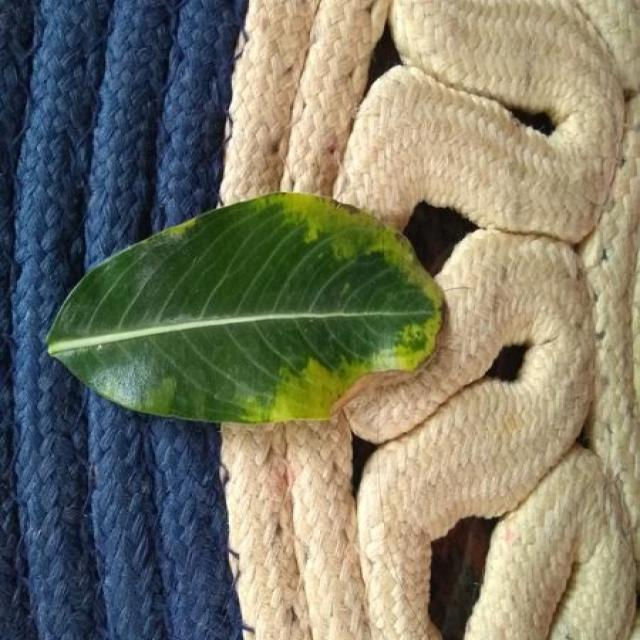catharanthus: (47, 192, 443, 423)
defectedcatharanthus: (207, 194, 442, 423)
